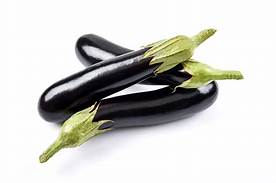fruit_eggplant: (37, 71, 222, 166), (37, 26, 217, 123)
